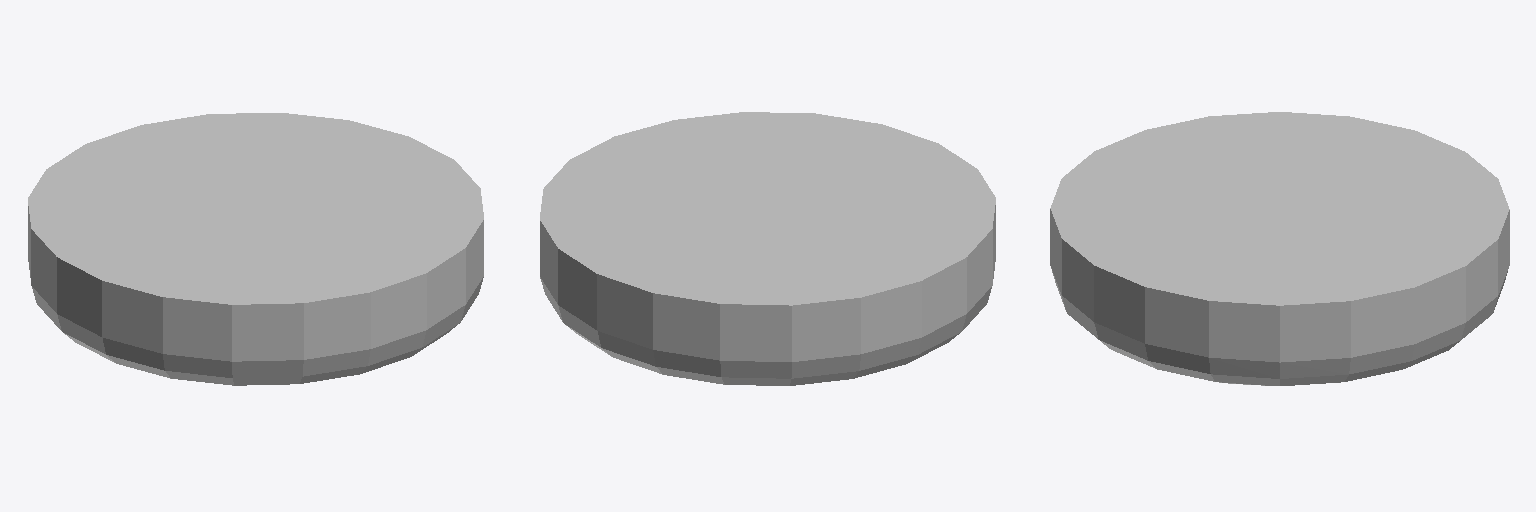
File: Start.obj
3 views of the same model, side by side, from view 1: azimuth 30°, elevation 25°; view 2: azimuth 150°, elevation 25°; view 3: azimuth 270°, elevation 25° (orthographic).
Parts seen in each view (by area): view 1: Start; view 2: Start; view 3: Start.
Part boxes in pixels (x1,y1,x2,y2): Start: (28, 113, 483, 385); Start: (540, 112, 995, 385); Start: (1050, 112, 1509, 385).
Size of the model in its own units: 11 by 2.52 by 11.